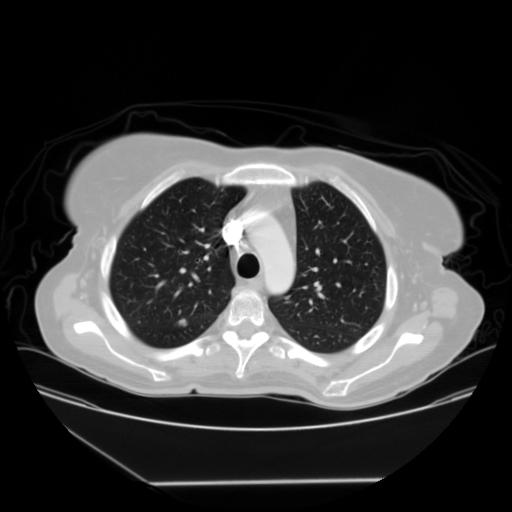nodule: (177, 317, 189, 329)
